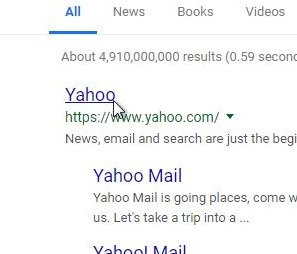cursor: (109, 97, 127, 121)
